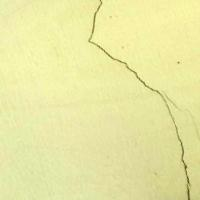crack: (80, 0, 199, 198)
